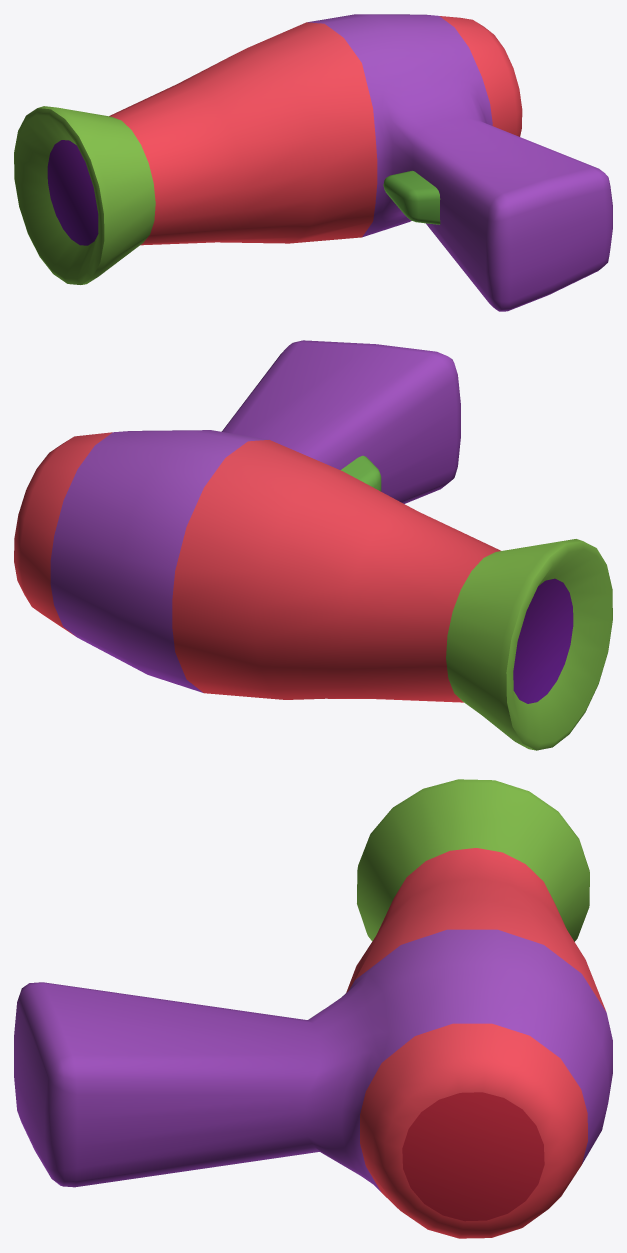
File: Hair_Dryer_01.glb
3 renders of one model, top to bottom at view 1: azimuth 30°, elevation 25°; view 2: azimuth 150°, elevation 25°; view 3: azimuth 270°, elevation 25°, orthographic. The views are drawn at different scales.
Visible parts, largest first — view 1: Hair_Dryer_01; view 2: Hair_Dryer_01; view 3: Hair_Dryer_01.
Part boxes in pixels (left/top/right/bottom): Hair_Dryer_01: left=14, top=14, right=612, bottom=311; Hair_Dryer_01: left=14, top=340, right=612, bottom=750; Hair_Dryer_01: left=14, top=779, right=612, bottom=1238.
Size of the model in its own units: 0.2306 by 0.1003 by 0.2134.
1 material, 1 textured.
